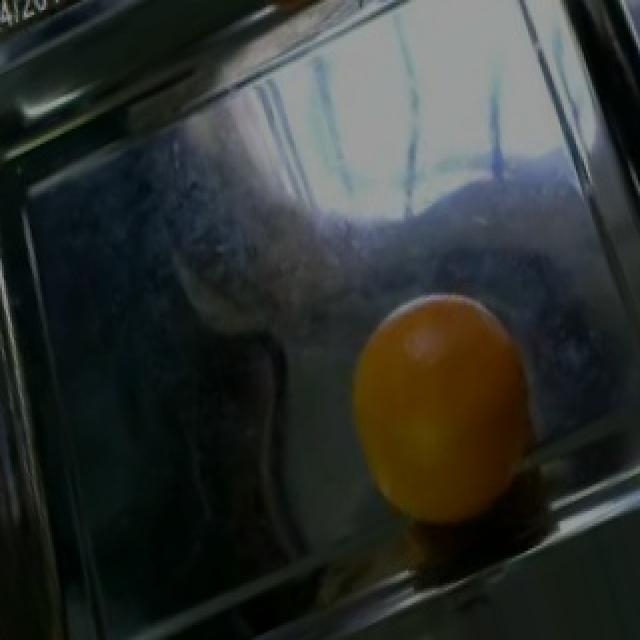Fruit: (322, 276, 554, 548)
